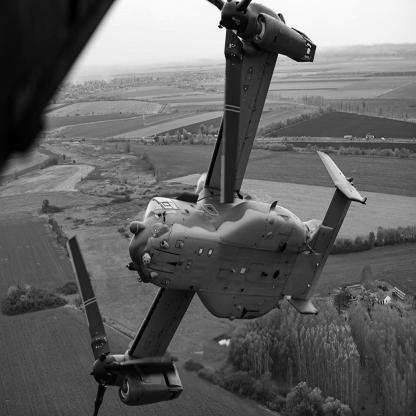V22: (67, 2, 369, 416)
